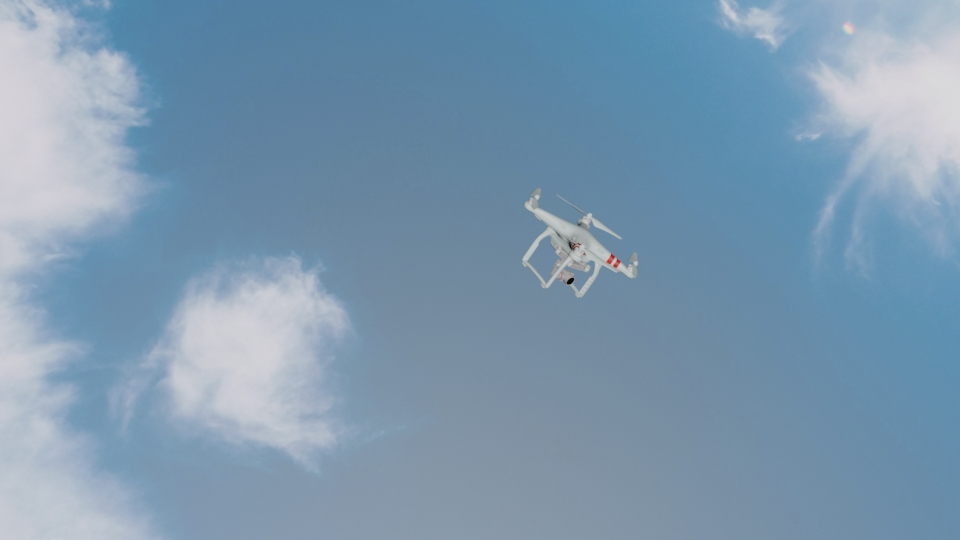drone: (513, 183, 642, 297)
